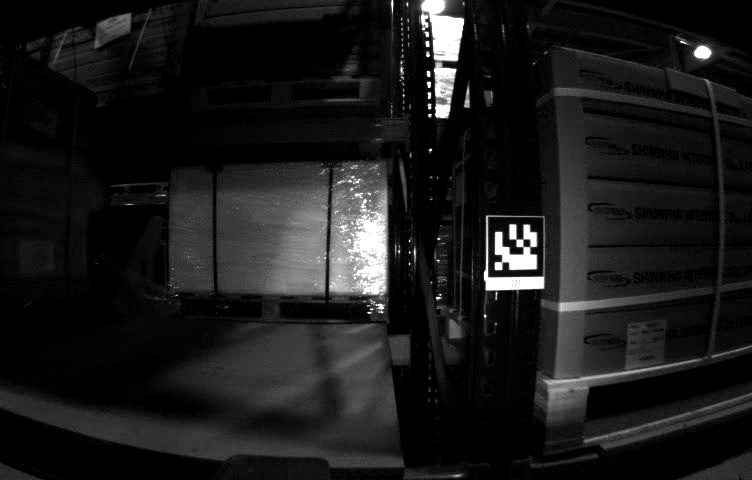True Barcode: (625, 320, 668, 366)
